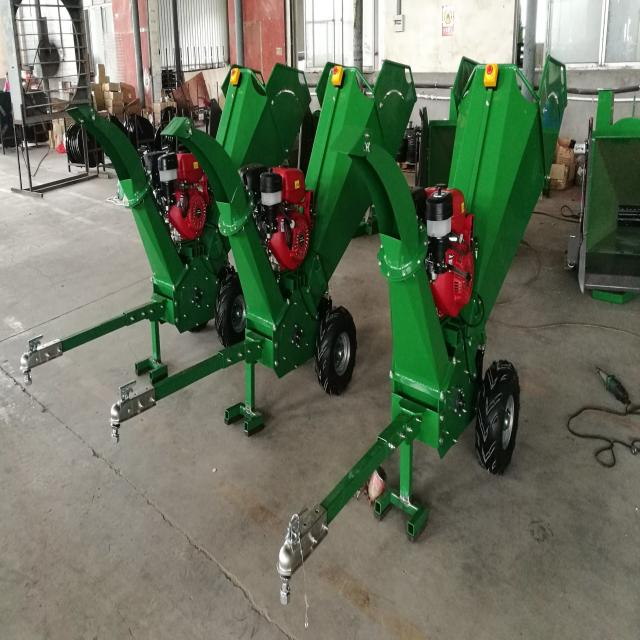Broyeur: (441, 60, 574, 347), (312, 57, 414, 317), (214, 48, 306, 260)
